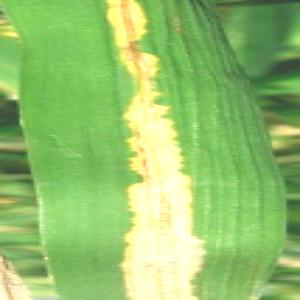2 BacterialBlight: (32, 3, 243, 300)
